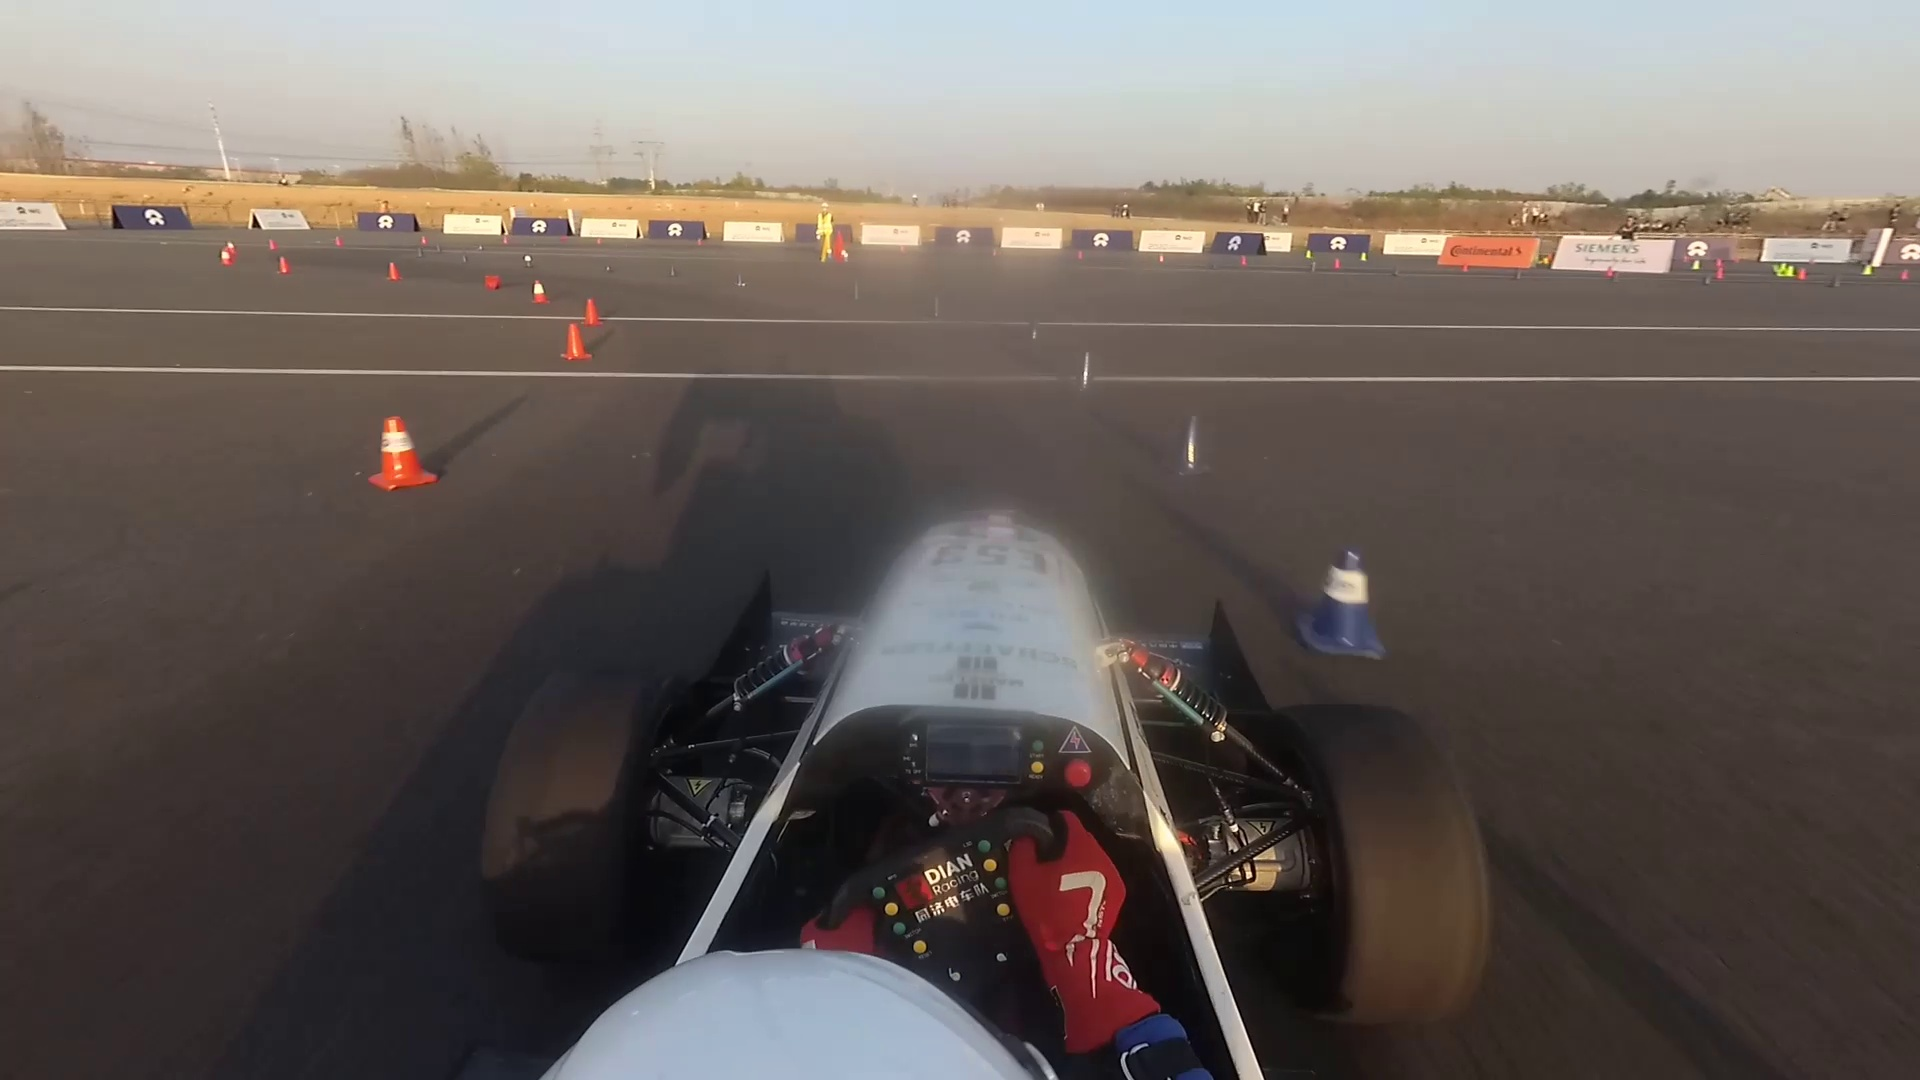blue_cone: (1282, 538, 1390, 670), (1153, 419, 1230, 491), (1055, 353, 1112, 414), (1015, 320, 1048, 357), (847, 278, 864, 305), (928, 291, 943, 320), (732, 270, 746, 293), (518, 251, 534, 269), (458, 251, 469, 270), (603, 260, 615, 276), (667, 262, 676, 276), (415, 249, 425, 256)
red_cone: (343, 414, 440, 493), (547, 327, 593, 361), (527, 277, 554, 306), (580, 297, 603, 330), (214, 239, 239, 266), (381, 260, 407, 284), (480, 269, 502, 291), (268, 237, 282, 255), (276, 253, 287, 273), (418, 233, 433, 249), (1331, 257, 1345, 272), (1237, 255, 1251, 266), (500, 233, 510, 247), (334, 231, 342, 248), (1458, 262, 1473, 272), (1717, 266, 1727, 278), (1077, 251, 1083, 258)
